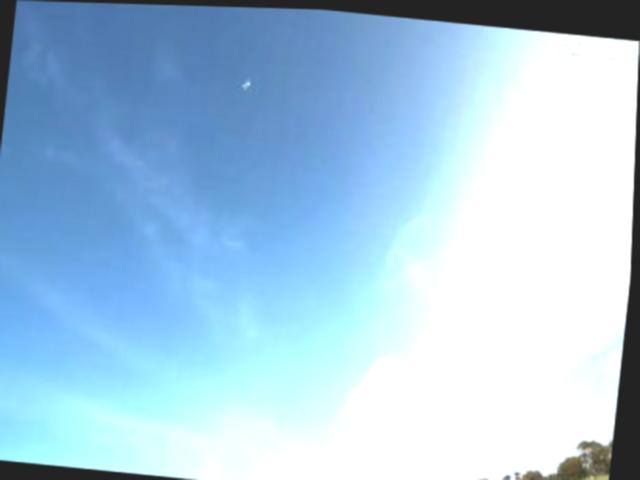uav: (235, 70, 256, 96)
